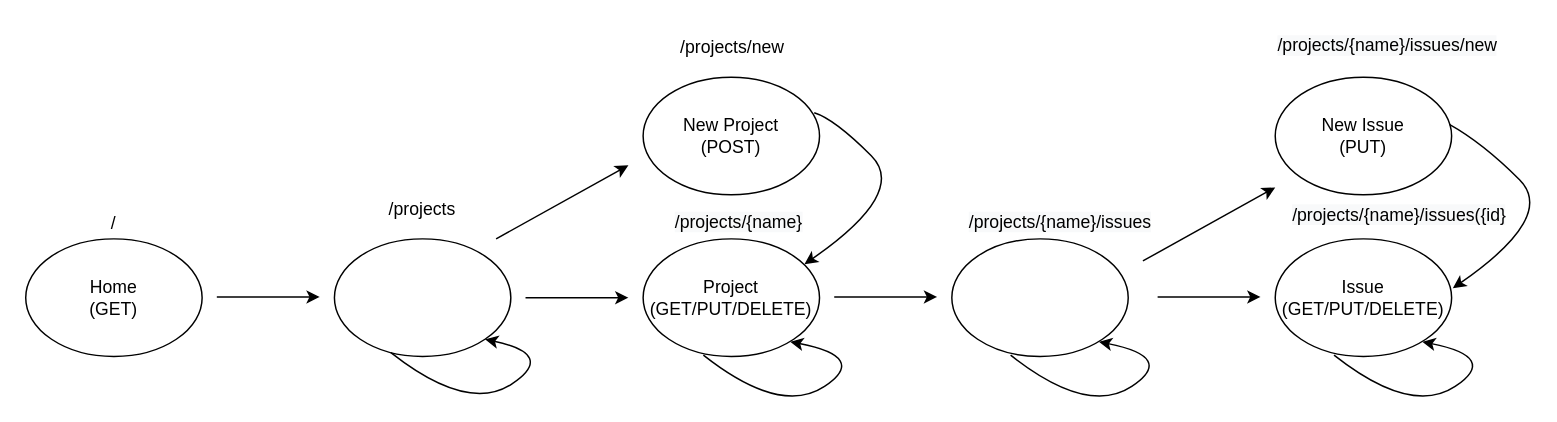
Image size: 1557x422. Some labels were removed from this diagram. The centre of each missing label's shape, as x and y in pixels:
Issues (GET): (x=1039, y=296)
Projects (GET): (x=422, y=296)
